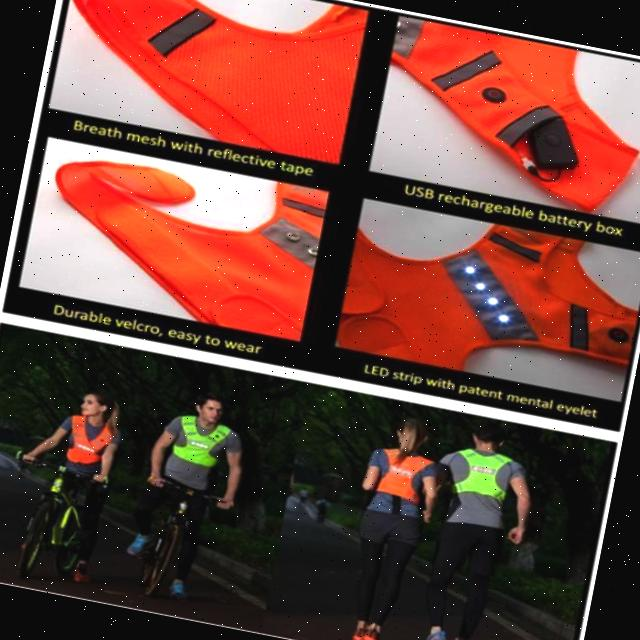vest: (438, 444, 528, 532), (154, 404, 240, 494), (366, 439, 444, 518), (64, 408, 123, 471)
